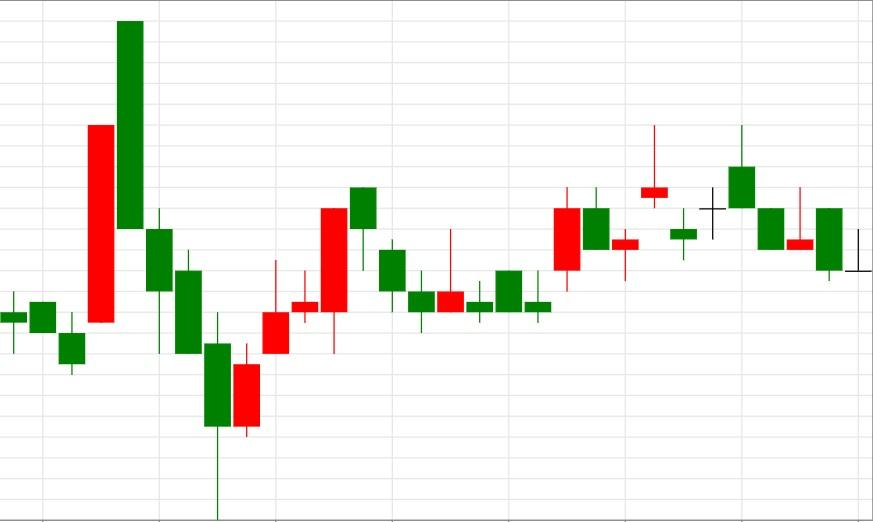three_black_crows_fall: (203, 187, 436, 521)
